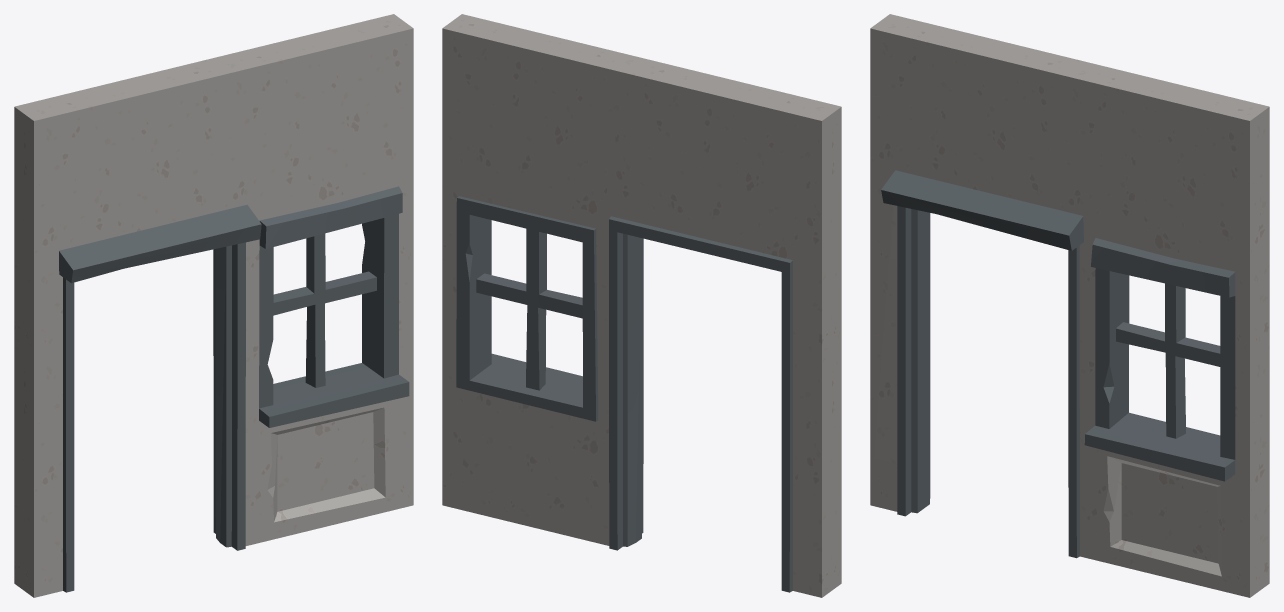
Rendered from SM_Bld_ShopFront_06.obj.
The picture shows the model from 3 angles, left to right: view 1: azimuth 30°, elevation 25°; view 2: azimuth 150°, elevation 25°; view 3: azimuth 330°, elevation 25°; orthographic projection.
Visible parts, largest first — view 1: SM_Bld_ShopFront_06_1, SM_Bld_ShopFront_06_2, SM_Bld_ShopFront_06_0; view 2: SM_Bld_ShopFront_06_0, SM_Bld_ShopFront_06_2, SM_Bld_ShopFront_06_1; view 3: SM_Bld_ShopFront_06_1, SM_Bld_ShopFront_06_2, SM_Bld_ShopFront_06_0.
Part boxes in pixels (<box>): SM_Bld_ShopFront_06_1: <box>24,21,413,597</box>; SM_Bld_ShopFront_06_2: <box>59,186,409,592</box>; SM_Bld_ShopFront_06_0: <box>14,14,403,590</box>; SM_Bld_ShopFront_06_0: <box>442,21,831,597</box>; SM_Bld_ShopFront_06_2: <box>456,196,792,592</box>; SM_Bld_ShopFront_06_1: <box>452,14,841,590</box>; SM_Bld_ShopFront_06_1: <box>870,21,1259,597</box>; SM_Bld_ShopFront_06_2: <box>881,170,1235,558</box>; SM_Bld_ShopFront_06_0: <box>880,14,1269,590</box>.
Size of the model in its own units: 2.5 by 3 by 0.4208.
3 materials, 3 textured.
